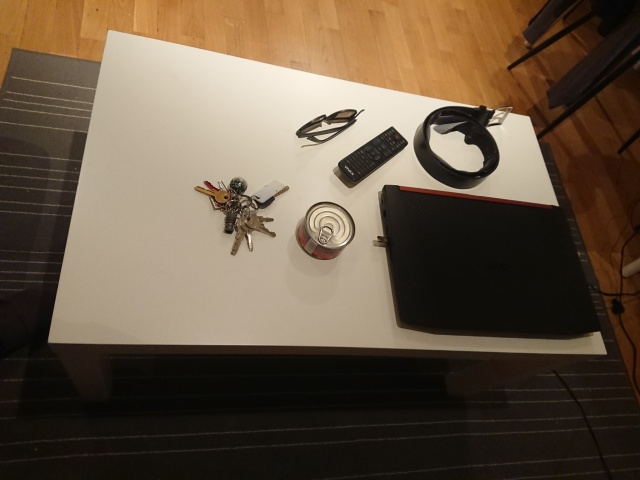Giana Tuna Salad Mexico 185g: (294, 199, 357, 263)
